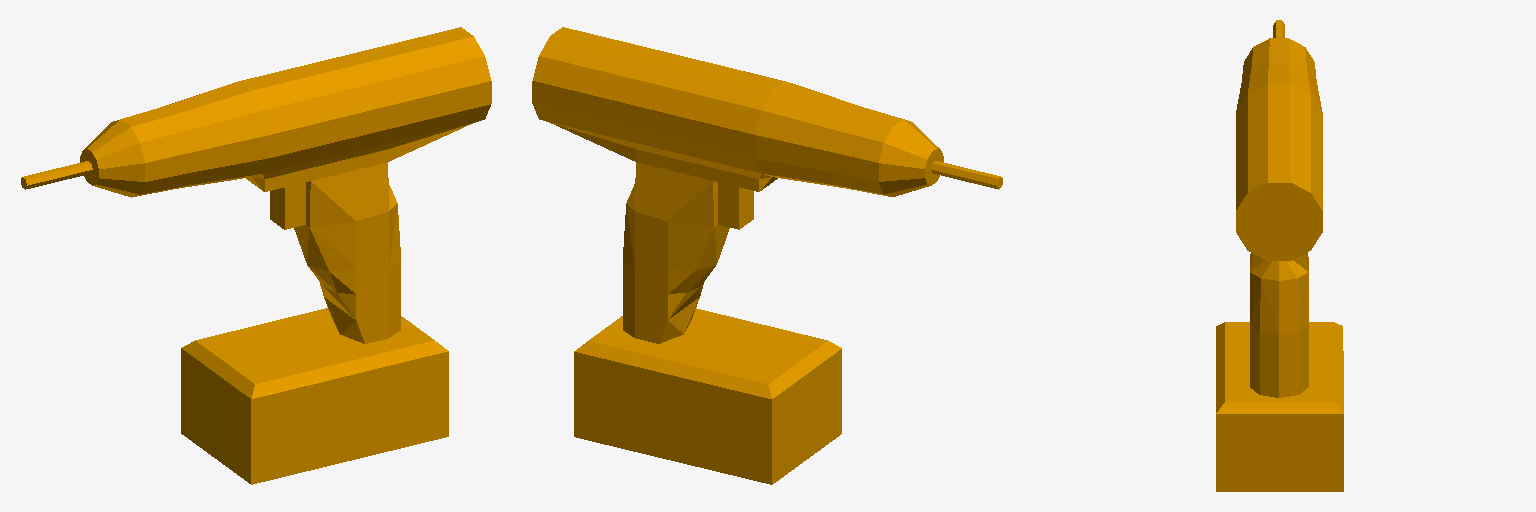
robot.urdf — powerdrill.off:
<?xml version="1.0"?>
<robot name="powerdrill.off">
	<link name="powerdrill.off">
		<inertial>
			<!--origin xyz="0 0 0" rpy="0 0 0" /-->
			<mass value="0.5" />
			<!--inertia ixx="0.000360" ixy="0" ixz="0" iyy="0.0000615" iyz="0" izz="0.00036" /-->
		</inertial>
    		<visual>
	      		<!--origin rpy="0 0 0" xyz="0 0 0"/-->
      			<geometry>
        			<mesh filename="powerdrill.off.obj"/>
      			</geometry>
         	</visual>
    		<collision>
      			<!--origin rpy="0 0 0" xyz="0 0 0"/-->
      			<geometry>
        			<mesh filename="powerdrill.off.obj"/>
      			</geometry>
    		</collision>
	</link>
</robot>

--- Facts derived from the render (not from the file) ---
3 views of the same robot in one strip: view 1: azimuth 30°, elevation 25°; view 2: azimuth 150°, elevation 25°; view 3: azimuth 270°, elevation 25° (orthographic).
Model powerdrill.off with 1 links and 0 joints (none), rooted at powerdrill.off, posed all joints at 0.
Links seen in each view (by area): view 1: powerdrill.off; view 2: powerdrill.off; view 3: powerdrill.off.
Link boxes in pixels (x1,y1,x2,y2): powerdrill.off: (21, 27, 491, 484); powerdrill.off: (532, 27, 1002, 484); powerdrill.off: (1216, 20, 1343, 491).
Size in the robot's own frame: 26.95 by 7.42 by 21.26 metres.
Meshes: 1 distinct files referenced, 1 mesh visuals loaded (1 OBJ).
